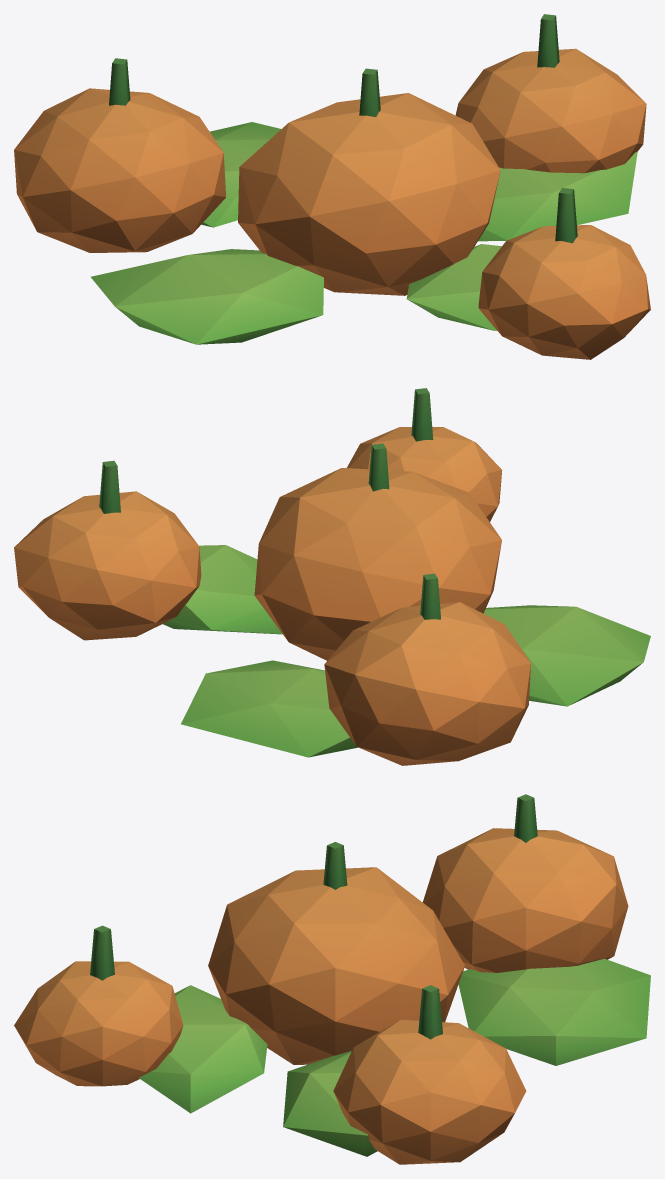
The model's file is pumpkin_patch.glb.
3 renders of one model, top to bottom at view 1: azimuth 30°, elevation 25°; view 2: azimuth 150°, elevation 25°; view 3: azimuth 270°, elevation 25°, orthographic. The views are drawn at different scales.
Visible parts, largest first — view 1: pumpkin_patch; view 2: pumpkin_patch; view 3: pumpkin_patch.
Boxes of the visible parts, <box> form: pumpkin_patch: <box>14,14,650,359</box>; pumpkin_patch: <box>14,388,650,765</box>; pumpkin_patch: <box>14,794,650,1164</box>.
Size of the model in its own units: 6.1 by 2.1 by 6.02.
1 material, 1 textured.
